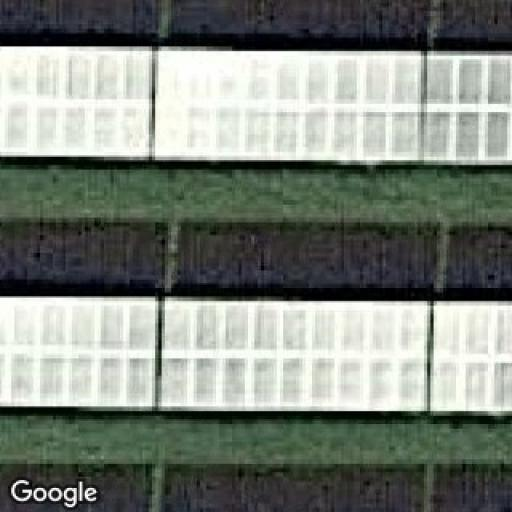solar-panel: (0, 293, 512, 416), (0, 44, 512, 166)
